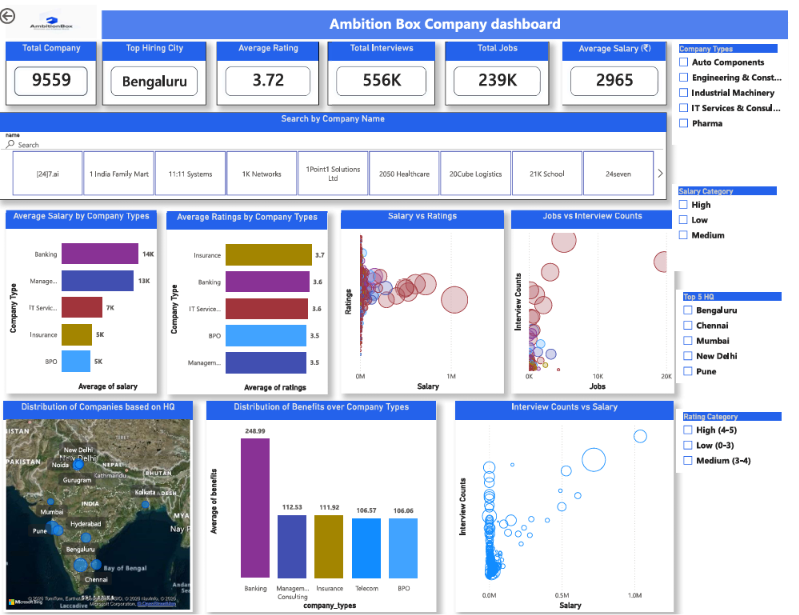

What the dashboard file says about the page in this screenshot:
{"tool":"powerbi","page":{"name":"Page 1","canvas":[1500,1500],"ordinal":0},"visuals":[{"type":"cardVisual","title":"Total Company","fields":{"Data":["ambitionbox_companies_cleaned.total_Company"]},"box":[17.1,68.6,171.4,120],"z":0},{"type":"cardVisual","title":"Average Salary (₹)","fields":{"Data":["ambitionbox_companies_cleaned.Avg_Salary"]},"box":[1071.4,68.6,198.6,120],"z":1000},{"type":"cardVisual","title":"Top Hiring City","fields":{"Data":["Min(ambitionbox_companies_cleaned.hq)"]},"box":[200,68.6,197.1,120],"z":2000},{"type":"cardVisual","title":"Total Jobs","fields":{"Data":["ambitionbox_companies_cleaned.Total_Jobs"]},"box":[850,68.6,197.1,120],"z":3000},{"type":"cardVisual","title":"Total Interviews","fields":{"Data":["ambitionbox_companies_cleaned.Total_Interview"]},"box":[627.1,68.6,204.3,120],"z":4000},{"type":"cardVisual","title":"Average Rating","fields":{"Data":["ambitionbox_companies_cleaned.Average_Rating"]},"box":[417.1,68.6,194.3,120],"z":5000},{"type":"textbox","box":[200,10,1300,52.5],"z":6000},{"type":"image","box":[17.8,0,171.5,61.7],"z":7000},{"type":"clusteredBarChart","title":"Average Salary by Company Types","fields":{"Y":["Avg(ambitionbox_companies_cleaned.salary)"],"Category":["ambitionbox_companies_cleaned.company_types"]},"box":[17.5,387.5,285.7,347.1],"z":8000},{"type":"clusteredBarChart","title":"Average Ratings by Company Types","fields":{"Category":["ambitionbox_companies_cleaned.company_types"],"Y":["Avg(ambitionbox_companies_cleaned.ratings)"]},"box":[322.5,390,304.6,347.2],"z":9000},{"type":"scatterChart","title":"Salary vs Ratings","fields":{"X":["ambitionbox_companies_cleaned.salary"],"Y":["ambitionbox_companies_cleaned.ratings"],"Size":["Avg(ambitionbox_companies_cleaned.benefits)"],"Series":["ambitionbox_companies_cleaned.company_types"]},"box":[652.5,387.5,308.7,347.2],"z":10000},{"type":"actionButton","box":[0,0,100,40],"z":11000},{"type":"scatterChart","title":"Jobs vs Interview Counts","fields":{"X":["Sum(ambitionbox_companies_cleaned.jobs)1"],"Y":["Sum(ambitionbox_companies_cleaned.interview_counts)1"],"Series":["ambitionbox_companies_cleaned.company_types"],"Size":["Avg(ambitionbox_companies_cleaned.salary)"]},"box":[975,387.5,308.7,347.2],"z":12000},{"type":"map","title":"Distribution of Companies based on HQ ","fields":{"Category":["ambitionbox_companies_cleaned.hq"],"Size":["Count(ambitionbox_companies_cleaned.name)"]},"box":[12.5,750,358.6,400],"z":13000},{"type":"lineStackedColumnComboChart","title":"Distribution of Benefits over Company Types","fields":{"Category":["ambitionbox_companies_cleaned.company_types"],"Y":["Avg(ambitionbox_companies_cleaned.benefits)"]},"box":[397.5,750,435.7,400],"z":14000},{"type":"scatterChart","title":"Interview Counts vs Salary","fields":{"Y":["Sum(ambitionbox_companies_cleaned.interview_counts)"],"X":["ambitionbox_companies_cleaned.salary"],"Size":["Sum(ambitionbox_companies_cleaned.jobs)"]},"box":[870,750,412.9,400],"z":15000},{"type":"tableEx","title":"Company Performance Overview","fields":{"Values":["ambitionbox_companies_cleaned.name","ambitionbox_companies_cleaned.ratings","ambitionbox_companies_cleaned.salary","ambitionbox_companies_cleaned.jobs","ambitionbox_companies_cleaned.interview_counts","ambitionbox_companies_cleaned.benefits"]},"box":[17.5,1160,1268.6,128.6],"z":16000},{"type":"slicer","title":"Search by Company Name","fields":{"Values":["ambitionbox_companies_cleaned.name"]},"box":[2.5,202.5,1267.5,165],"z":17000},{"type":"slicer","fields":{"Values":["ambitionbox_companies_cleaned.company_types"]},"box":[1281.4,68.6,211.4,195.7],"z":19000},{"type":"slicer","fields":{"Values":["ambitionbox_companies_cleaned.Salary Category"]},"box":[1280,338.6,211.7,165.2],"z":20000},{"type":"slicer","fields":{"Values":["ambitionbox_companies_cleaned.Ratings Category"]},"box":[1288.6,765.7,211.7,120],"z":21000},{"type":"slicer","fields":{"Values":["ambitionbox_companies_cleaned.hq"]},"box":[1288.6,538.6,211.7,176.7],"z":22000},{"type":"textbox","title":"Insights","box":[17.5,1310,1475,167.5],"z":24000}]}

Visuals, with their boxes on the page's 1500x1500 design canvas (x1, y1, x2, y2). These are canvas units, not pixel positions in the 799x615 screenshot, which may show the page scaled, cropped or inside an application window:
"Total Company" cardVisual: (17, 69, 188, 189)
"Average Salary (₹)" cardVisual: (1071, 69, 1270, 189)
"Top Hiring City" cardVisual: (200, 69, 397, 189)
"Total Jobs" cardVisual: (850, 69, 1047, 189)
"Total Interviews" cardVisual: (627, 69, 831, 189)
"Average Rating" cardVisual: (417, 69, 611, 189)
textbox: (200, 10, 1500, 62)
image: (18, 0, 189, 62)
"Average Salary by Company Types" clusteredBarChart: (18, 388, 303, 735)
"Average Ratings by Company Types" clusteredBarChart: (322, 390, 627, 737)
"Salary vs Ratings" scatterChart: (652, 388, 961, 735)
actionButton: (0, 0, 100, 40)
"Jobs vs Interview Counts" scatterChart: (975, 388, 1284, 735)
"Distribution of Companies based on HQ " map: (12, 750, 371, 1150)
"Distribution of Benefits over Company Types" lineStackedColumnComboChart: (398, 750, 833, 1150)
"Interview Counts vs Salary" scatterChart: (870, 750, 1283, 1150)
"Company Performance Overview" tableEx: (18, 1160, 1286, 1289)
"Search by Company Name" slicer: (2, 202, 1270, 368)
slicer - ambitionbox_companies_cleaned.company_types: (1281, 69, 1493, 264)
slicer - ambitionbox_companies_cleaned.Salary Category: (1280, 339, 1492, 504)
slicer - ambitionbox_companies_cleaned.Ratings Category: (1289, 766, 1500, 886)
slicer - ambitionbox_companies_cleaned.hq: (1289, 539, 1500, 715)
"Insights" textbox: (18, 1310, 1492, 1478)
